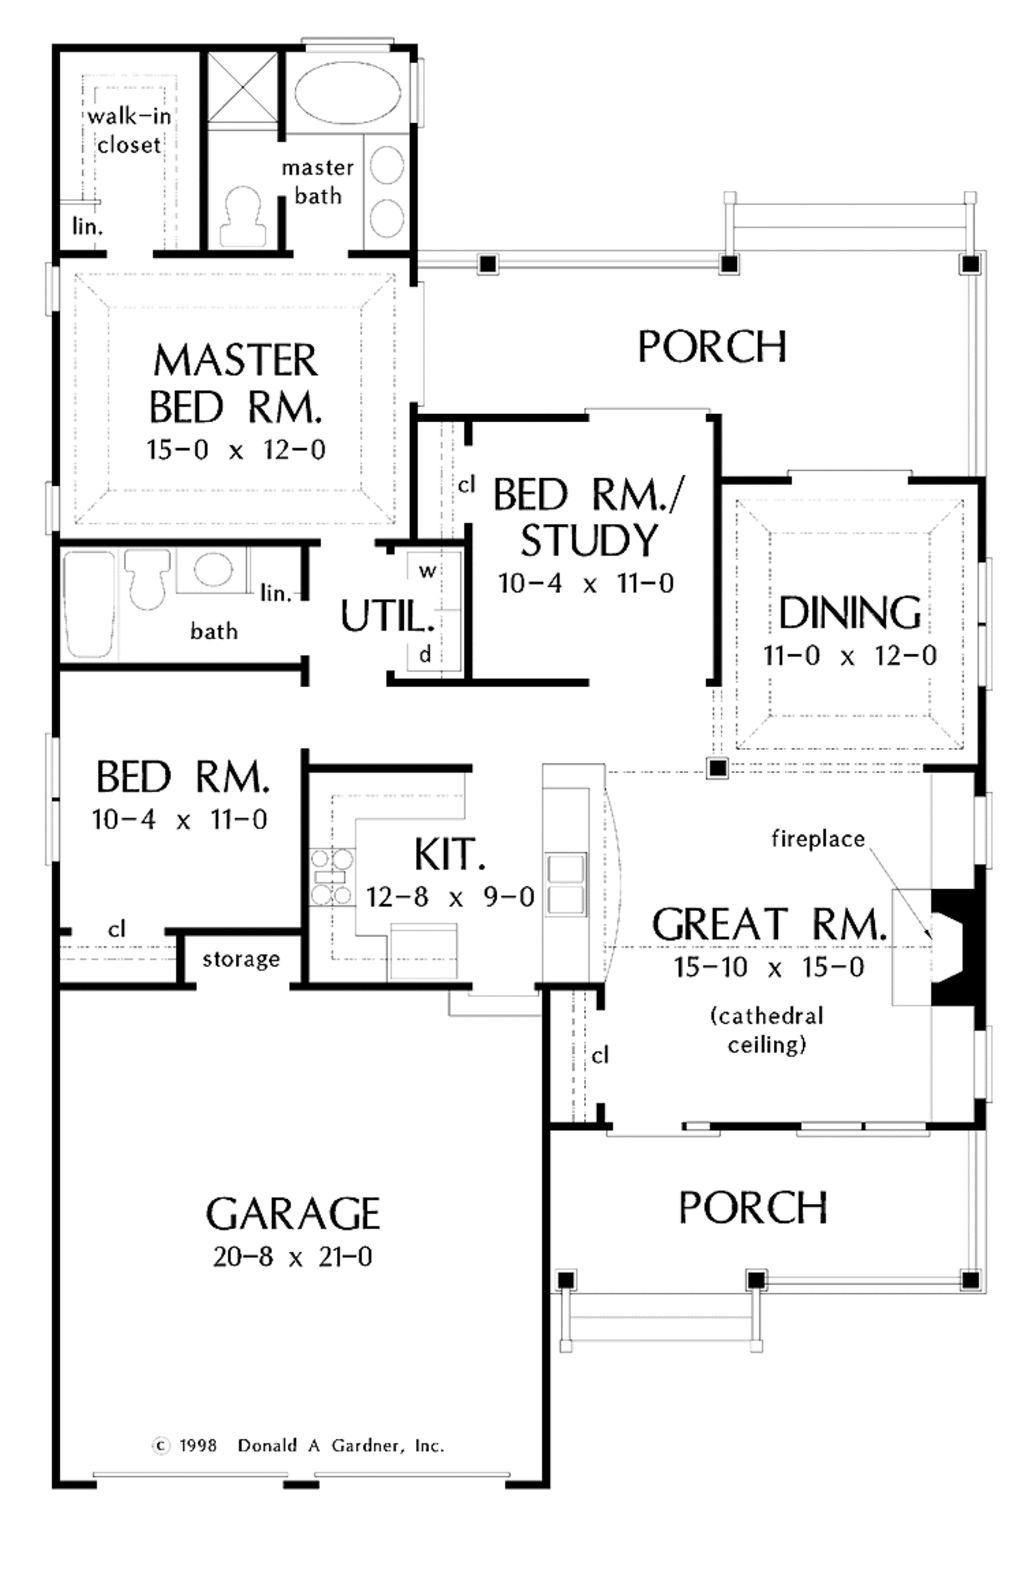large_sink: (211, 171, 293, 259), (110, 537, 168, 626)
small_sink: (346, 137, 410, 259), (171, 552, 263, 601)
tub: (276, 40, 419, 134), (44, 530, 124, 683)
twin_sink: (534, 832, 629, 952)
window: (778, 457, 922, 503), (26, 722, 68, 879), (600, 1103, 715, 1157), (956, 559, 1004, 686), (958, 788, 1003, 886), (798, 1110, 942, 1140)
